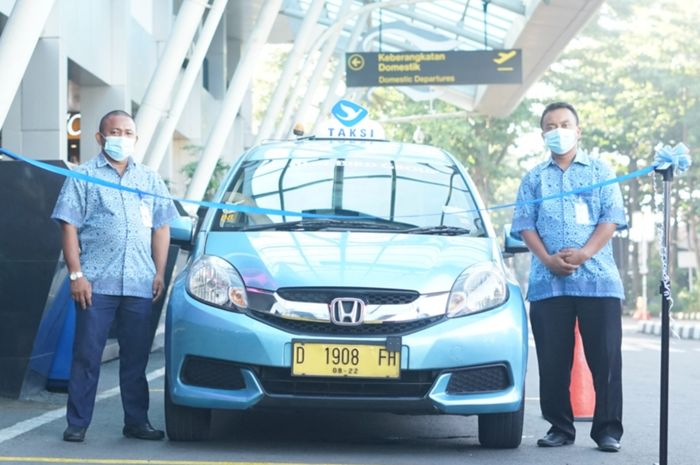plate: (291, 339, 404, 378)
